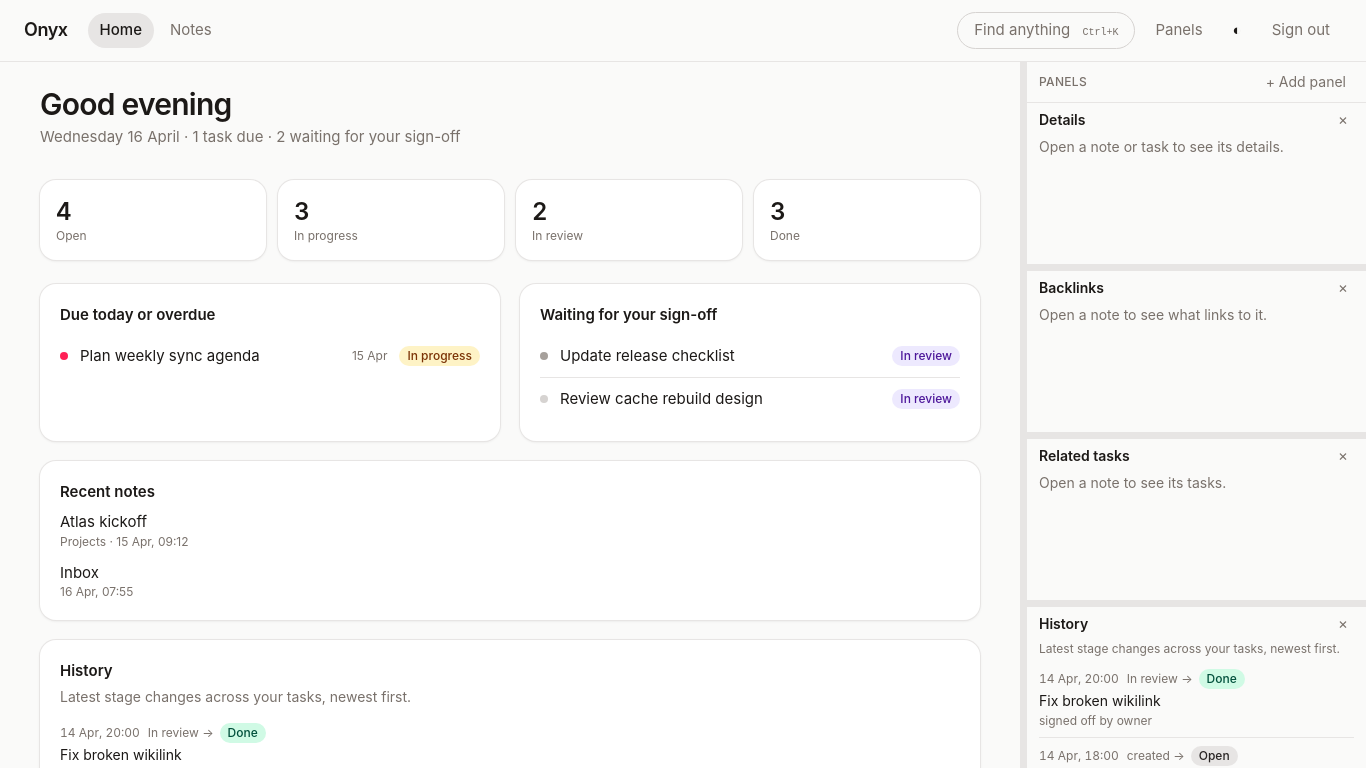
Test case: panels › hides and shows the side area
What coordinates should you click on to do the following:
click the button "Panels"
I would click on:
 (1179, 30)
Its box is x1=1144 y1=13 x2=1215 y2=48.
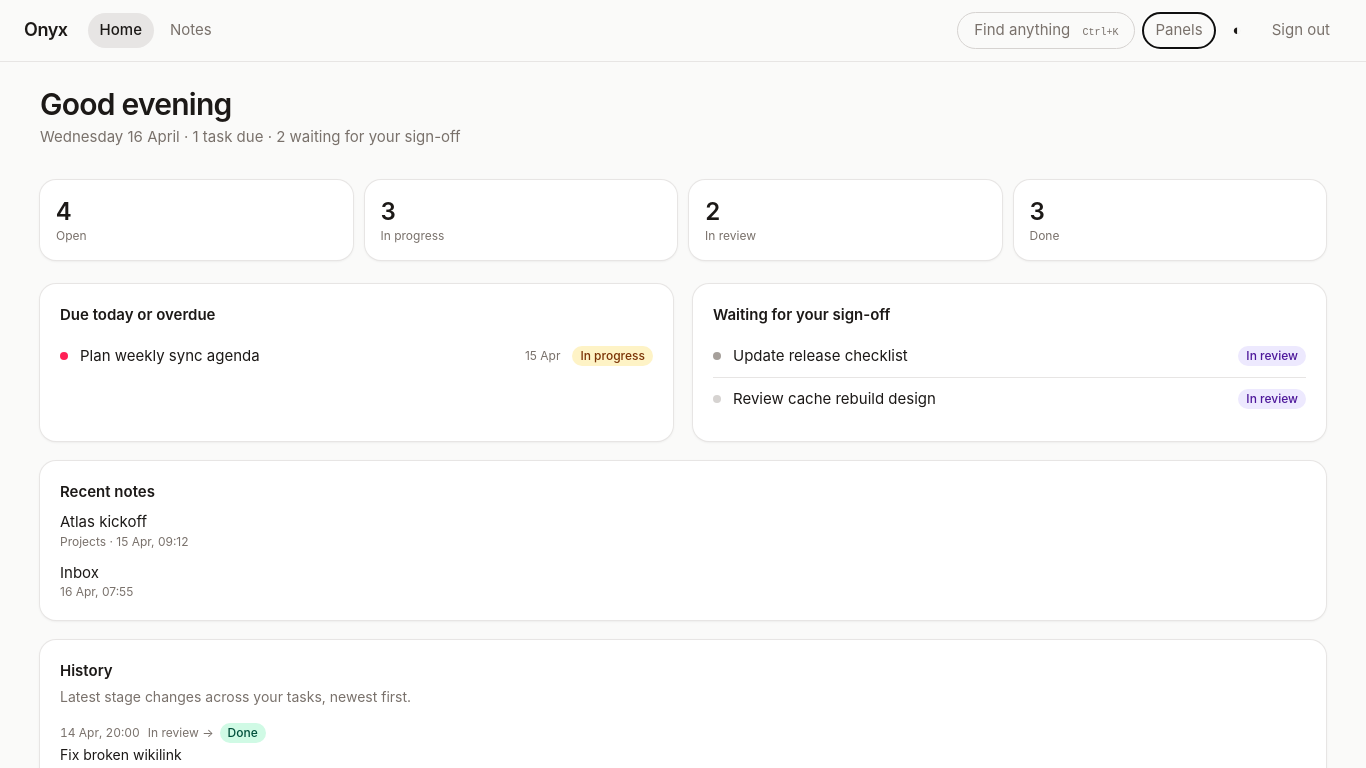
Now the button "Panels" is not pressed
What coordinates should you click on to do the following:
click the button "Panels"
I would click on:
 (1179, 30)
Its box is x1=1144 y1=13 x2=1215 y2=48.
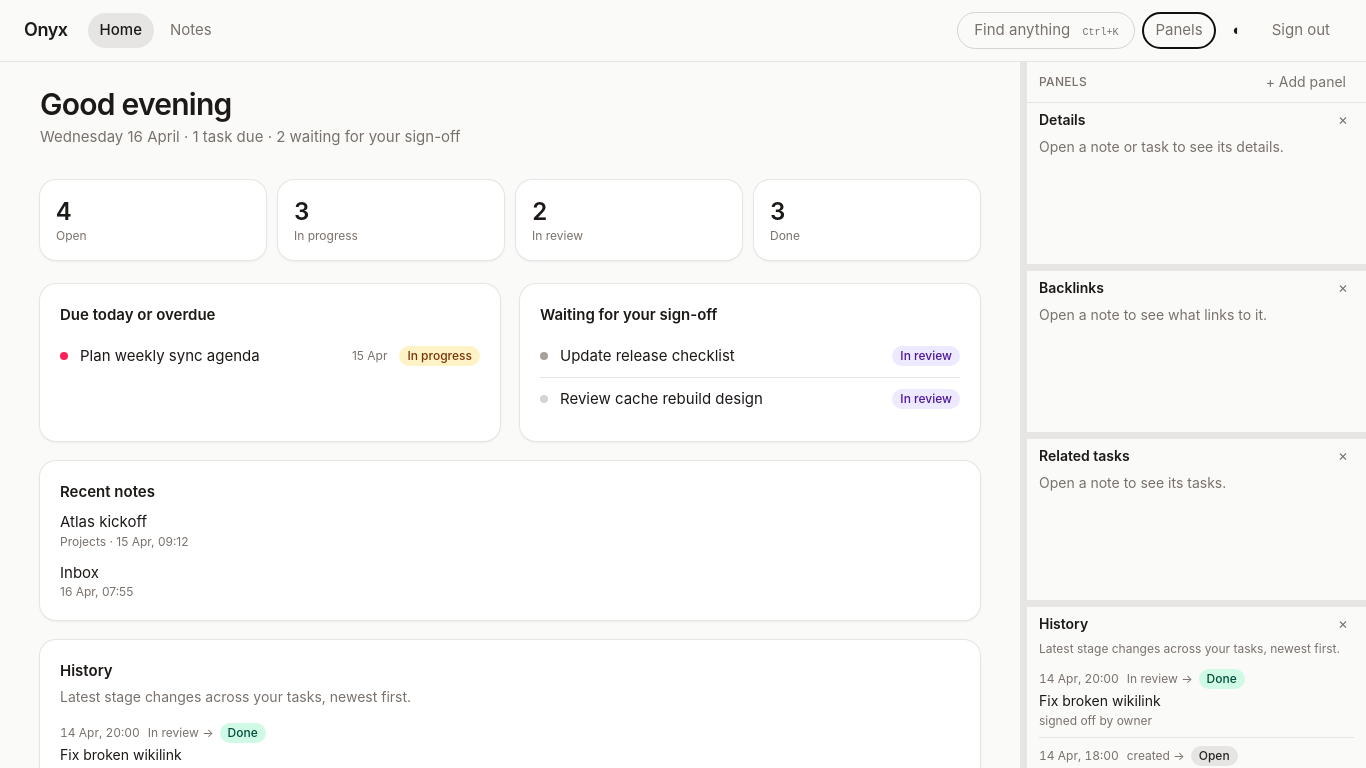
Now the element "Panels" is shown, box x1=1026 y1=62 x2=1365 y2=767
